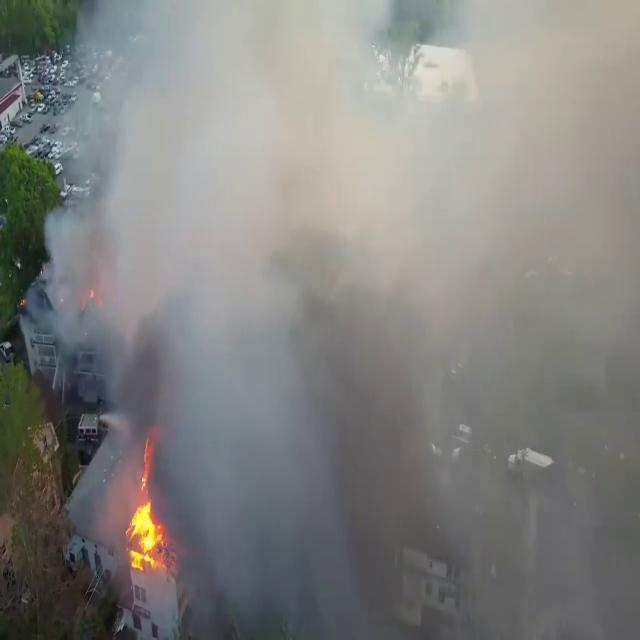Fire: (122, 484, 166, 572)
Smoke: (36, 1, 639, 638)
